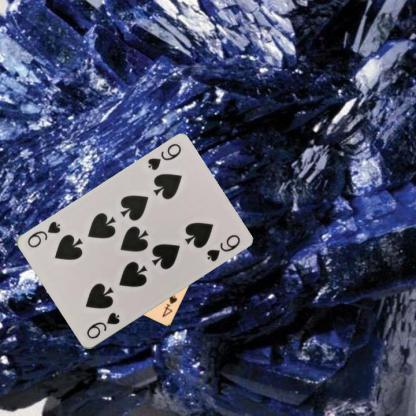4s: (160, 293, 178, 319)
9s: (144, 141, 182, 172), (84, 310, 121, 341)
